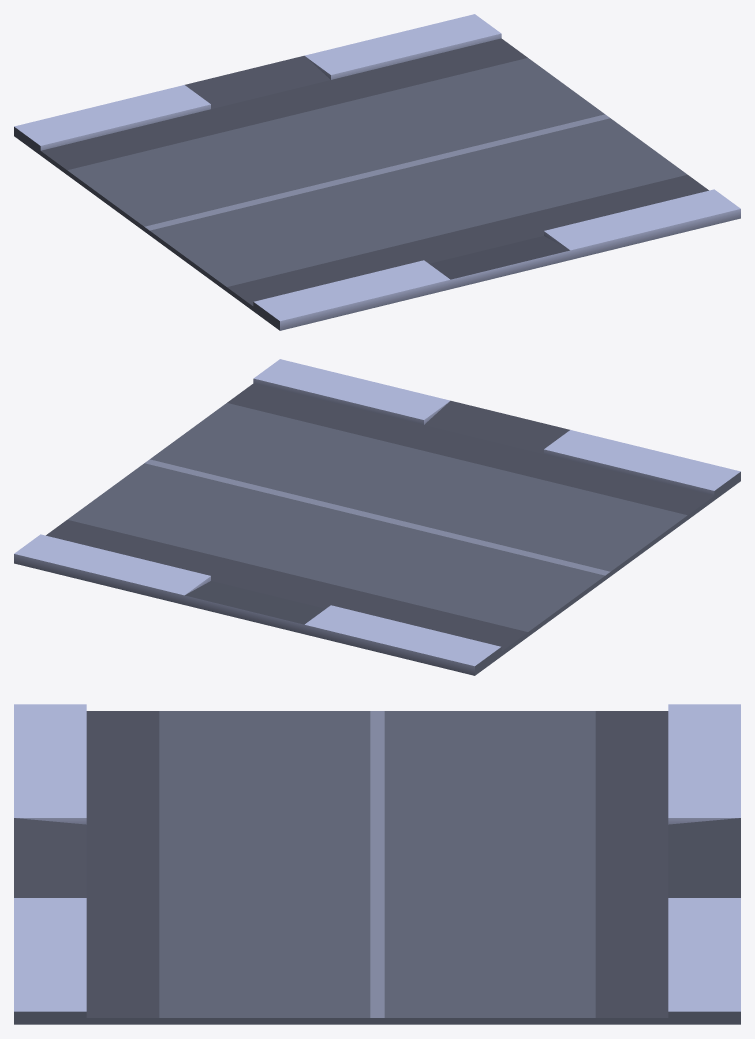
Rendered from road-driveway-double.glb.
3 renders of one model, top to bottom at view 1: azimuth 30°, elevation 25°; view 2: azimuth 150°, elevation 25°; view 3: azimuth 270°, elevation 25°, orthographic. The views are drawn at different scales.
Parts seen in each view (by area): view 1: road-driveway-double; view 2: road-driveway-double; view 3: road-driveway-double.
Part boxes in pixels (x1,y1,x2,y2): road-driveway-double: (14,14,740,330); road-driveway-double: (14,359,740,675); road-driveway-double: (14,704,740,1024).
Bounding box in the file's own units: 1 × 0.02 × 1.
Materials: 1 (1 with a texture image).
